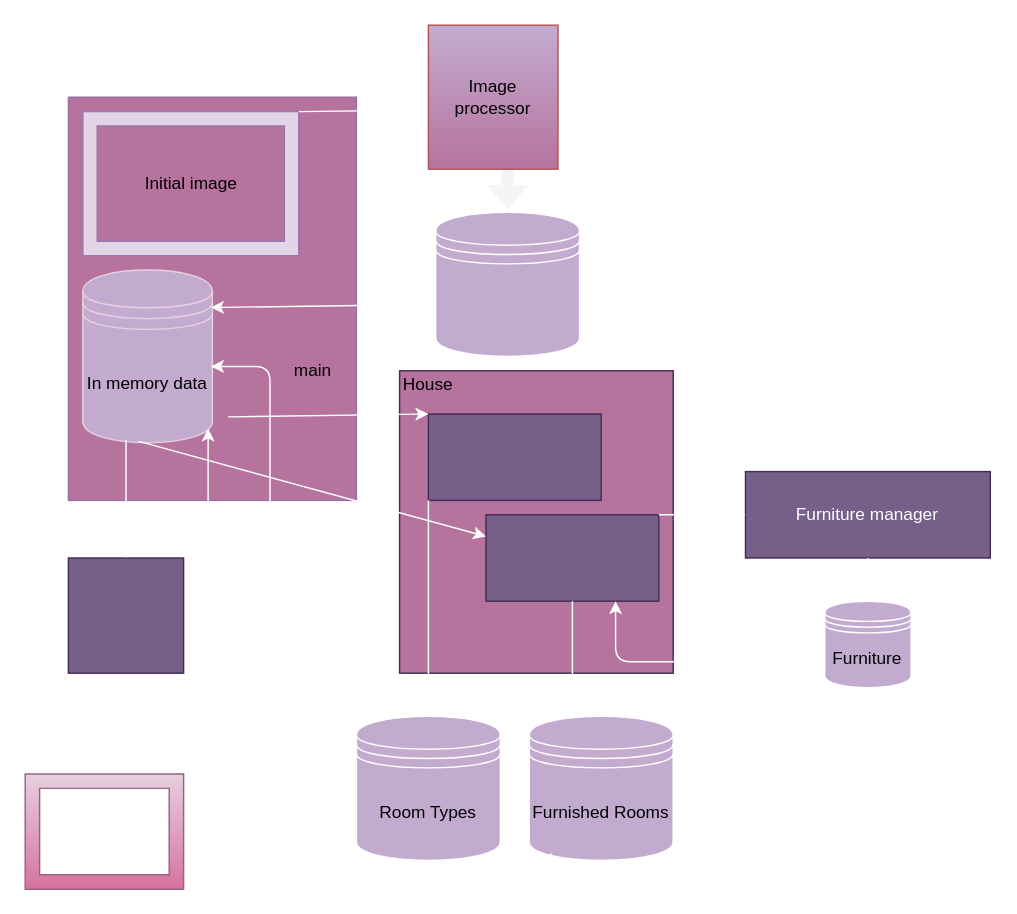
This 1017x914 diagram has some shape labels left out. The shapes that lost their labels are listed below. From the top down, each one's box as (x1, y1, x2, y2) in pixels, then its label:
(434, 211, 580, 356): Walls Doors Windows Blockers
(427, 413, 601, 500): Genetic algorithm (room type selector)
(485, 513, 659, 601): Furnisher
(67, 557, 184, 673): Exporter
